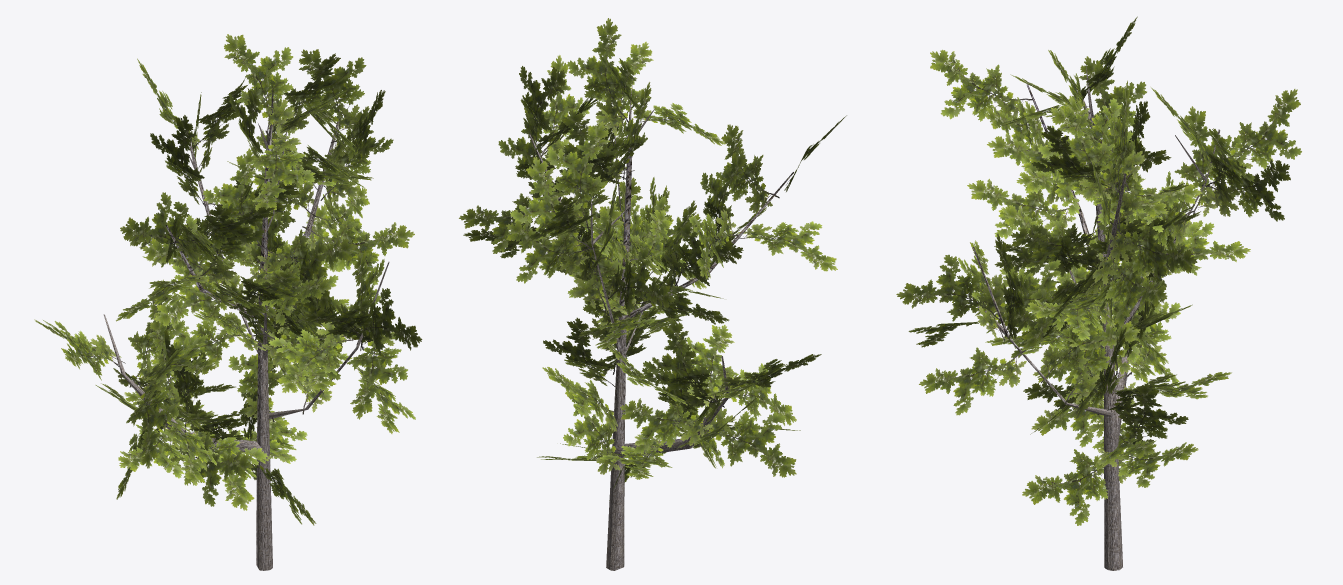
The model's file is broadleaf-lod.glb.
3 views of the same model, side by side, from view 1: azimuth 30°, elevation 25°; view 2: azimuth 150°, elevation 25°; view 3: azimuth 270°, elevation 25° (orthographic). The views are drawn at different scales.
Visible parts, largest first — view 1: 1_pngaaa.com-3905963_0, 1_bark-1_0; view 2: 1_pngaaa.com-3905963_0, 1_bark-1_0; view 3: 1_pngaaa.com-3905963_0, 1_bark-1_0.
Boxes of the visible parts, <box> form: 1_pngaaa.com-3905963_0: <box>34,34,422,525</box>; 1_bark-1_0: <box>103,85,389,570</box>; 1_pngaaa.com-3905963_0: <box>459,18,846,500</box>; 1_bark-1_0: <box>529,75,793,570</box>; 1_pngaaa.com-3905963_0: <box>896,16,1301,525</box>; 1_bark-1_0: <box>972,62,1220,570</box>.
Bounding box in the file's own units: 6 × 8.94 × 6.52.
Materials: 2 (2 with a texture image).
